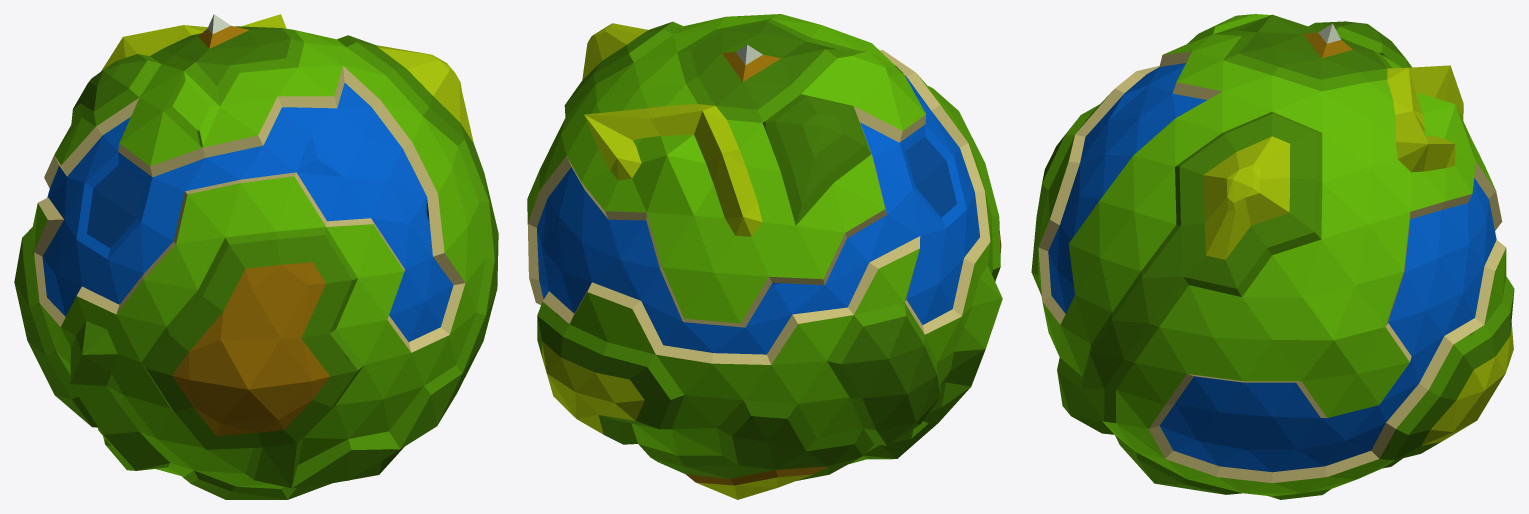
The model's file is PlanetLowPoly.FBX.
3 views of the same model, side by side, from view 1: azimuth 30°, elevation 25°; view 2: azimuth 150°, elevation 25°; view 3: azimuth 270°, elevation 25° (orthographic).
Visible parts, largest first — view 1: GeoSphere001; view 2: GeoSphere001; view 3: GeoSphere001.
Part boxes in pixels (x1,y1,x2,y2): GeoSphere001: (14, 14, 498, 499); GeoSphere001: (527, 14, 1002, 499); GeoSphere001: (1031, 14, 1514, 499).
Size of the model in its own units: 140 by 145 by 141.
Materials: 1 (1 with a texture image).
